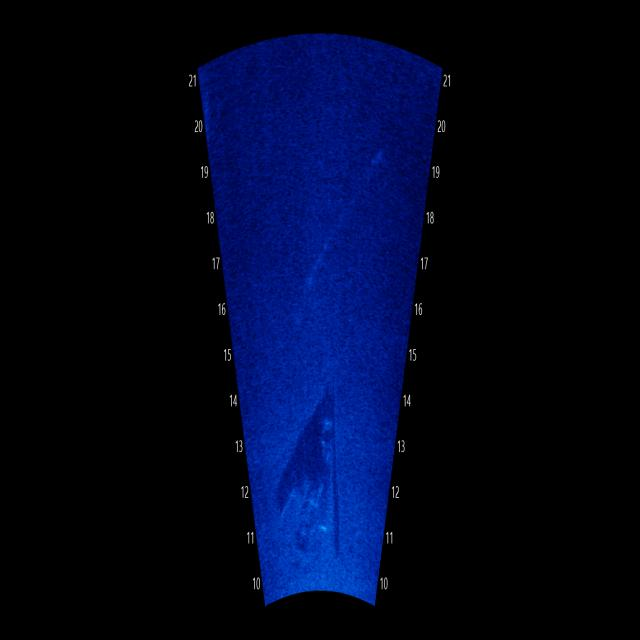triangle: (271, 386, 360, 558)
